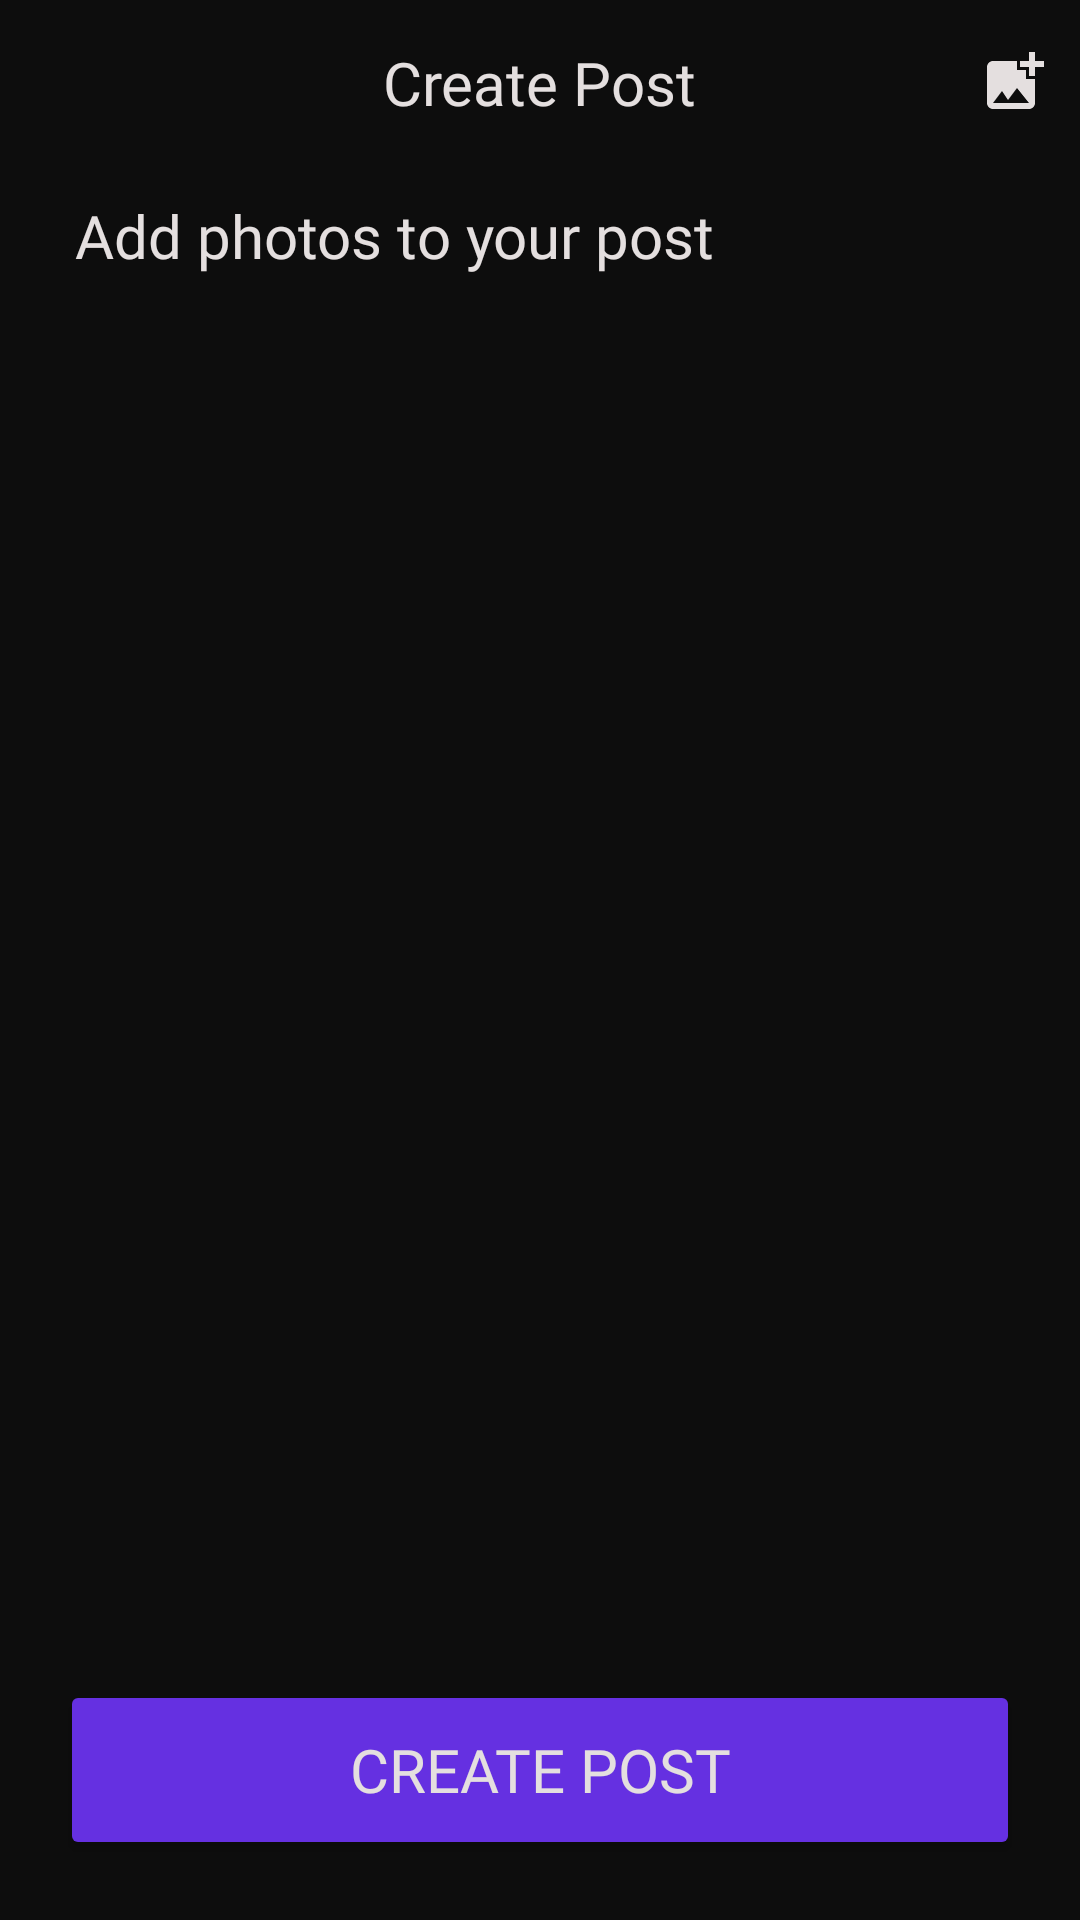

Icons on this 1080px×1920px Android screen, each with the point to tap as (x=x, y=y):
add photo alternate: (x=1015, y=80)
